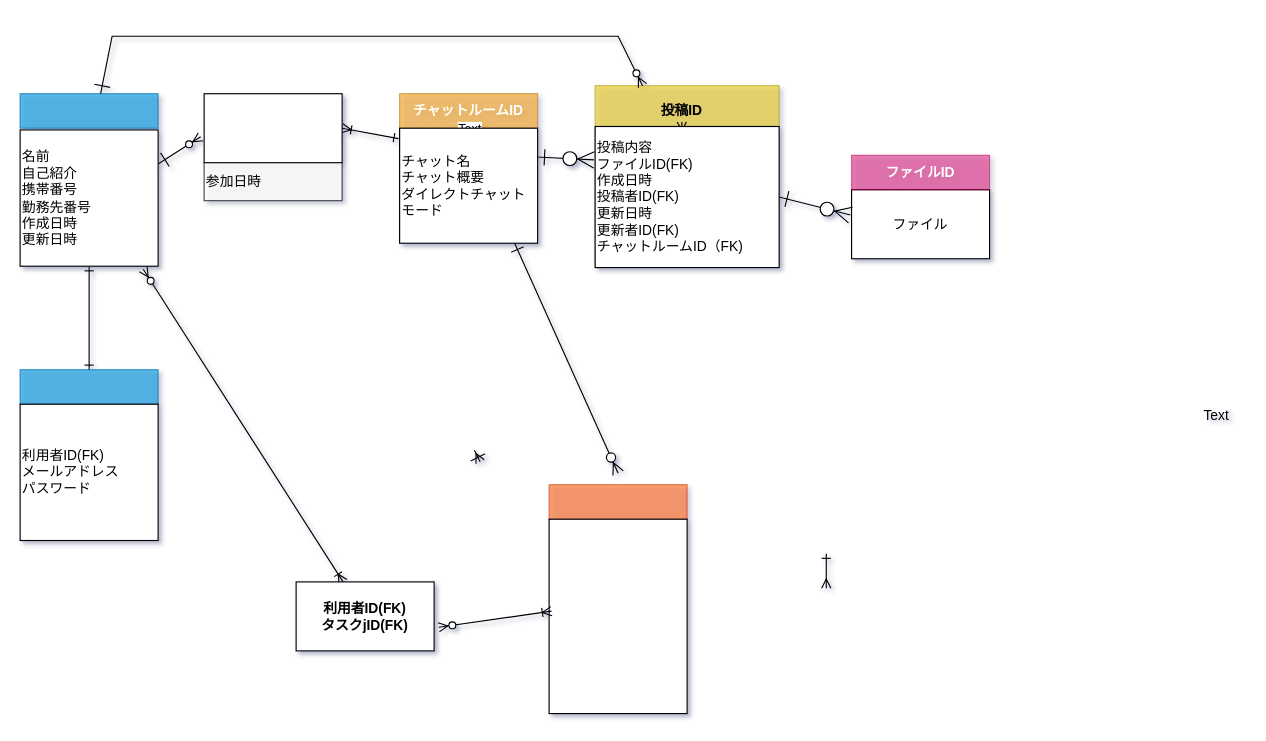
Image size: 1266x741. Some labels were removed from this diagram. The shapes that lost their labels are listed below. From the top down, each one's centre as x and y in pixels, then its label:
At point (88, 110): "利用者ID".
At point (272, 128): "利用者ID(FK) チャットルームID(FK)".
At point (88, 386): "ログインID".
At point (617, 501): "タスクID".
At point (617, 616): "タスク内容 チャットルームID（FK） 担当者ID(FK) 期限 完了日時 作成日時 作成者(FK) 更新日時 更新者(FK)".
